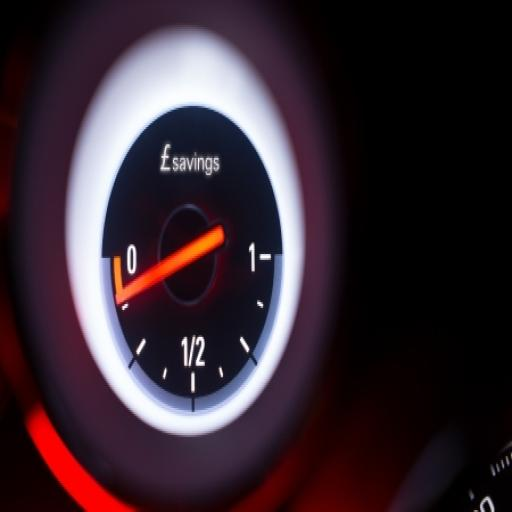empty: (125, 241, 138, 277)
full: (246, 240, 258, 282)
guage_area: (91, 95, 307, 426)
needle_center: (149, 202, 215, 307)
needle_tip: (114, 288, 130, 306)
